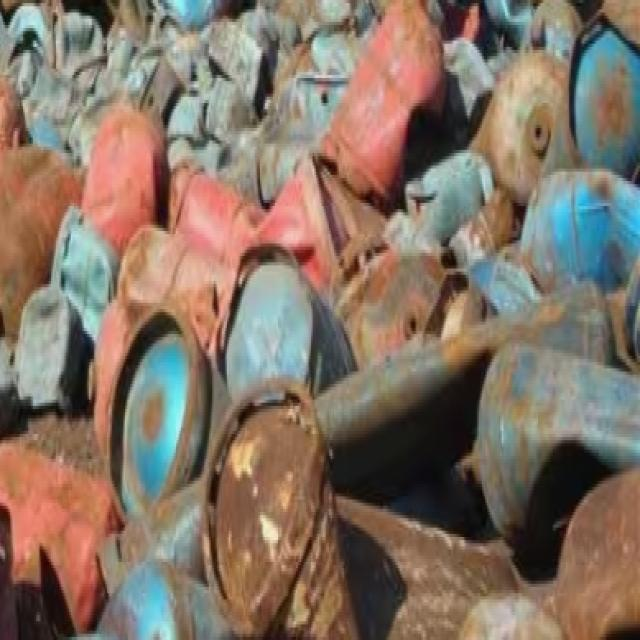cylinder: (316, 2, 451, 217)
